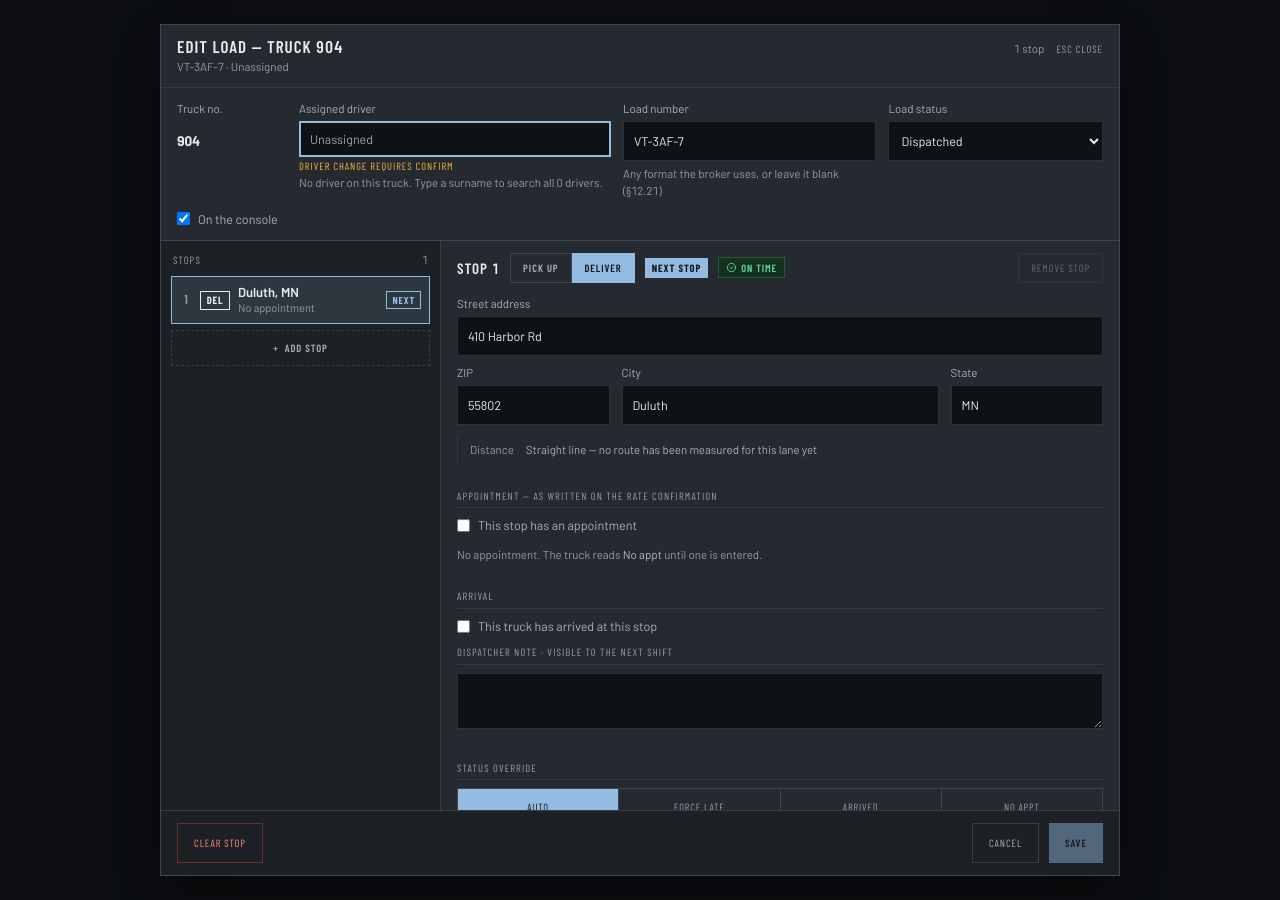
it: the stop saved, the active flag did not (§12.14, §12.127) › unanswered: the same, never "Save failed" over a save that landed
What coordinates should you click on to do the following:
click the checkbox named "Active — on the console"
I would click on:
 (184, 219)
Its box is [177, 212, 190, 225].
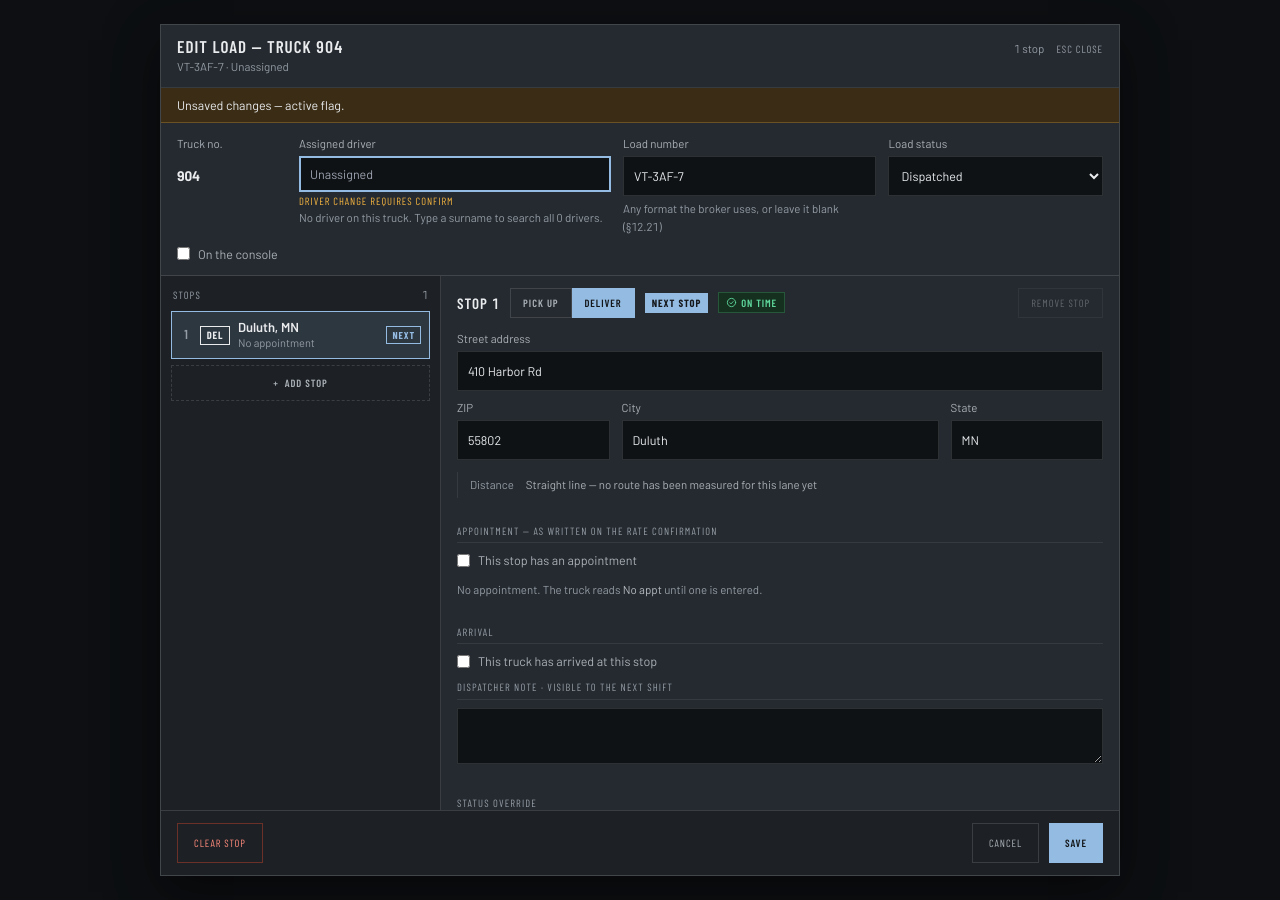
What coordinates should you click on to do the following:
click the button "Save"
I would click on:
 (1076, 843)
Its box is [1049, 823, 1103, 863].
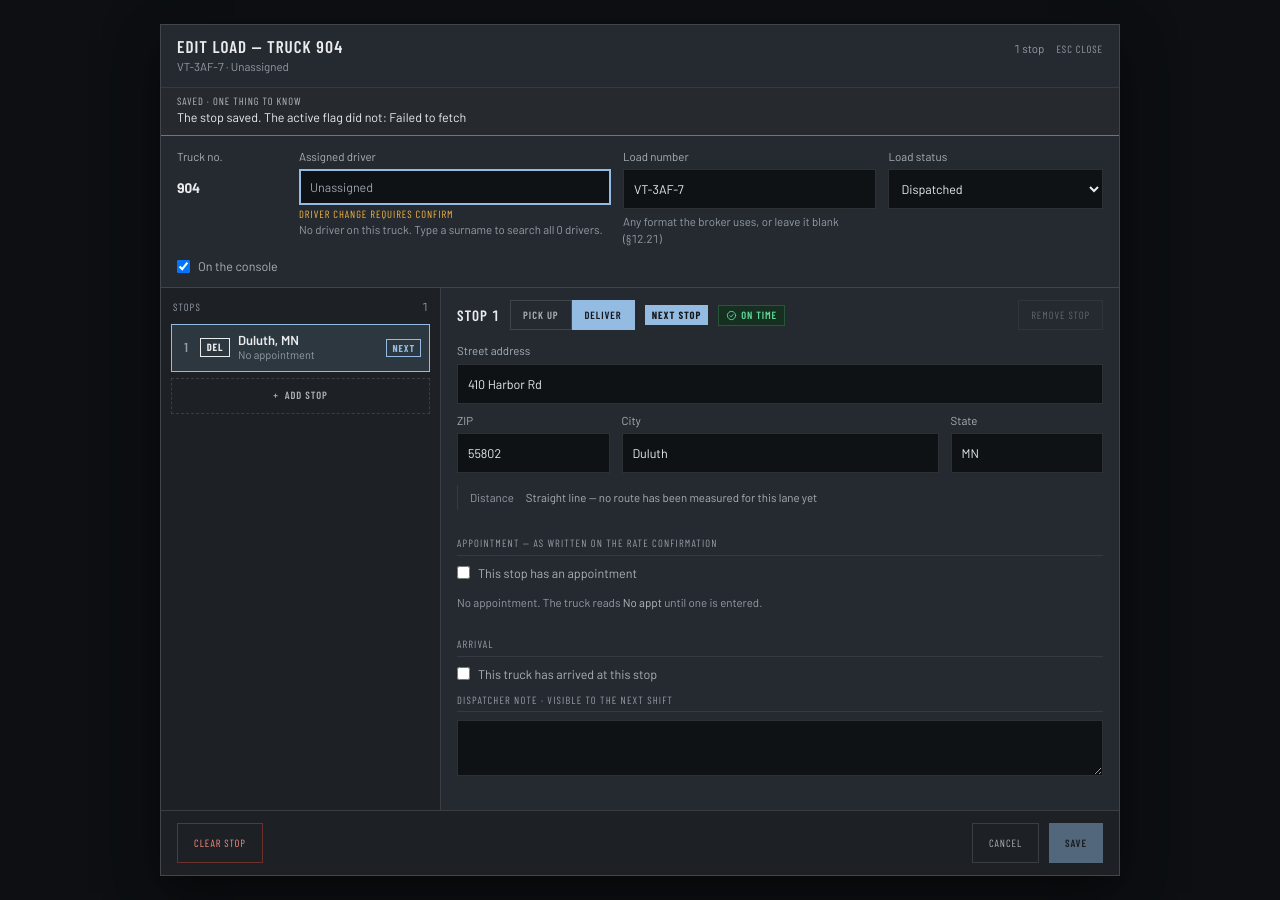
Expected: the button "Save" is disabled, [1049, 823, 1103, 863]
